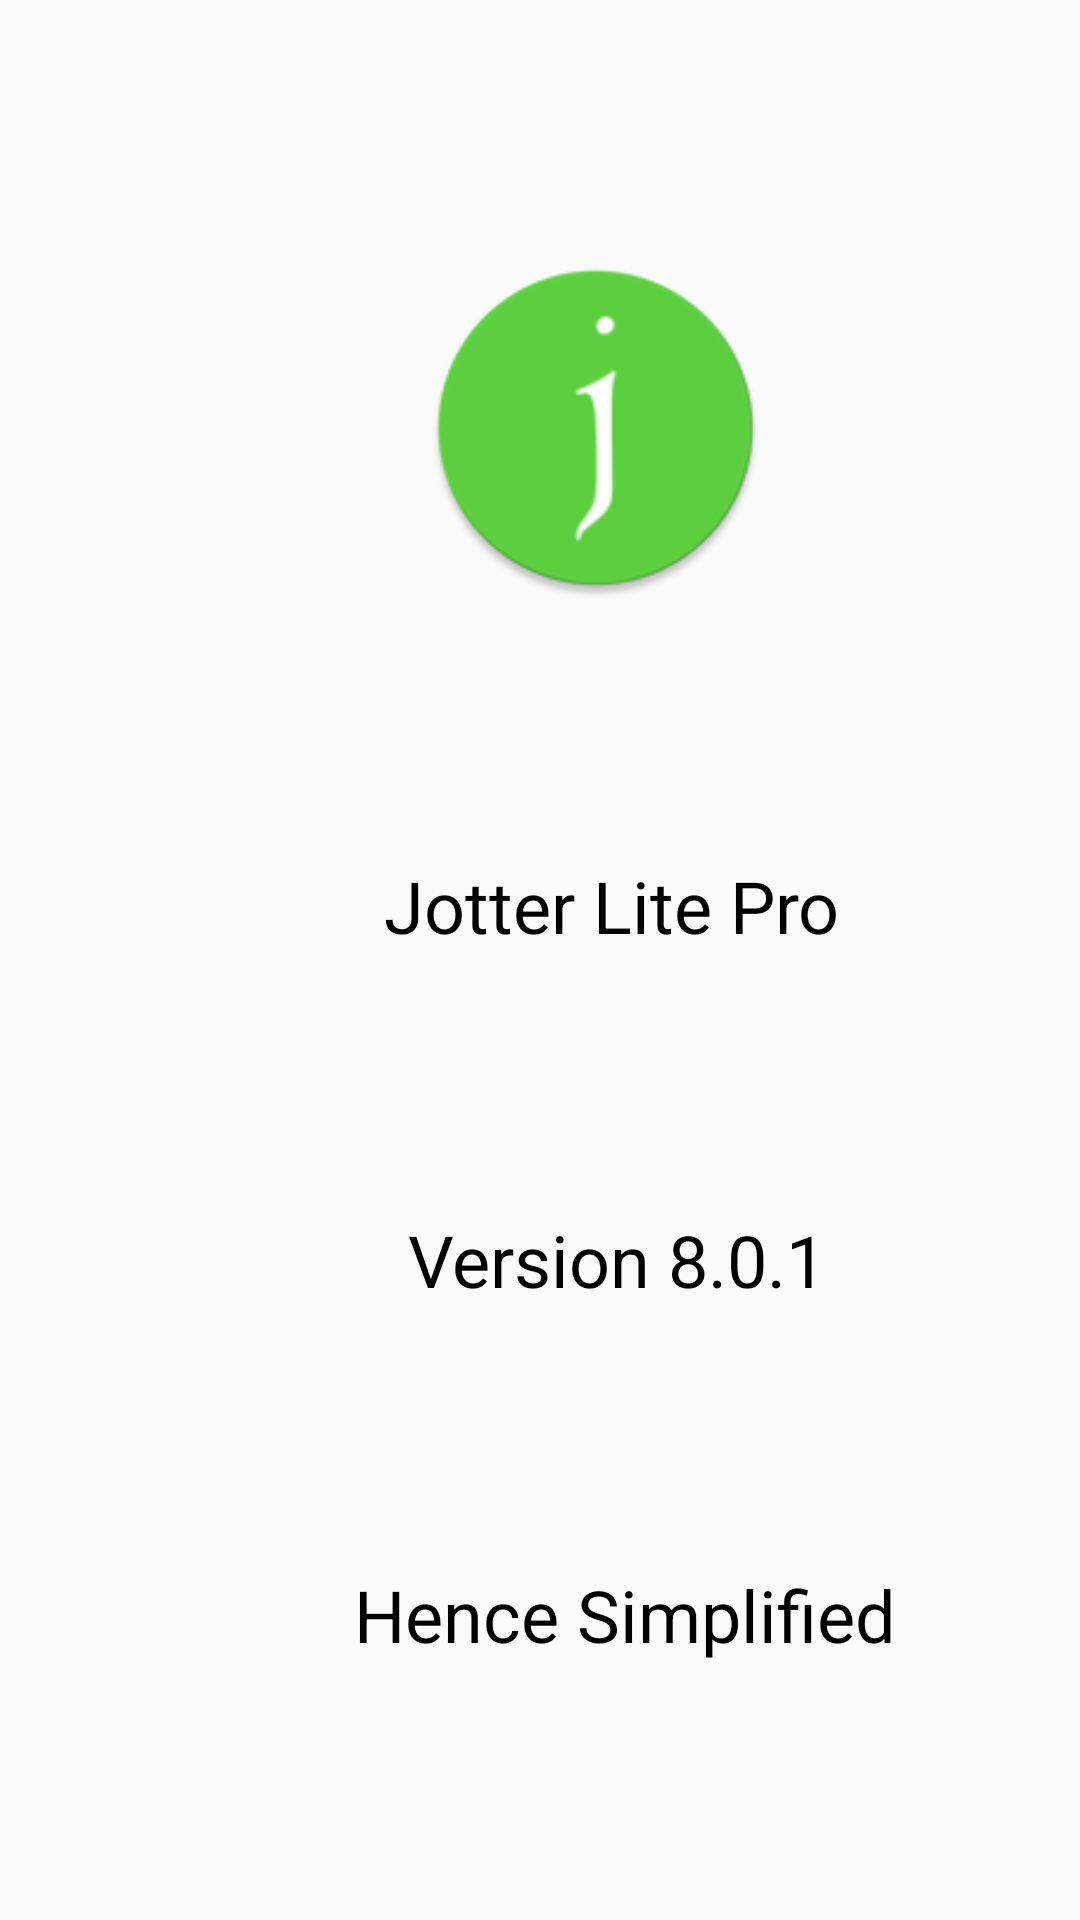

Locate icon controls on the screen. Image size 1080 x 1920, boxes as [left=x1, top=y1, right=x2, bottom=y2].
circle: [left=436, top=269, right=755, bottom=593]
